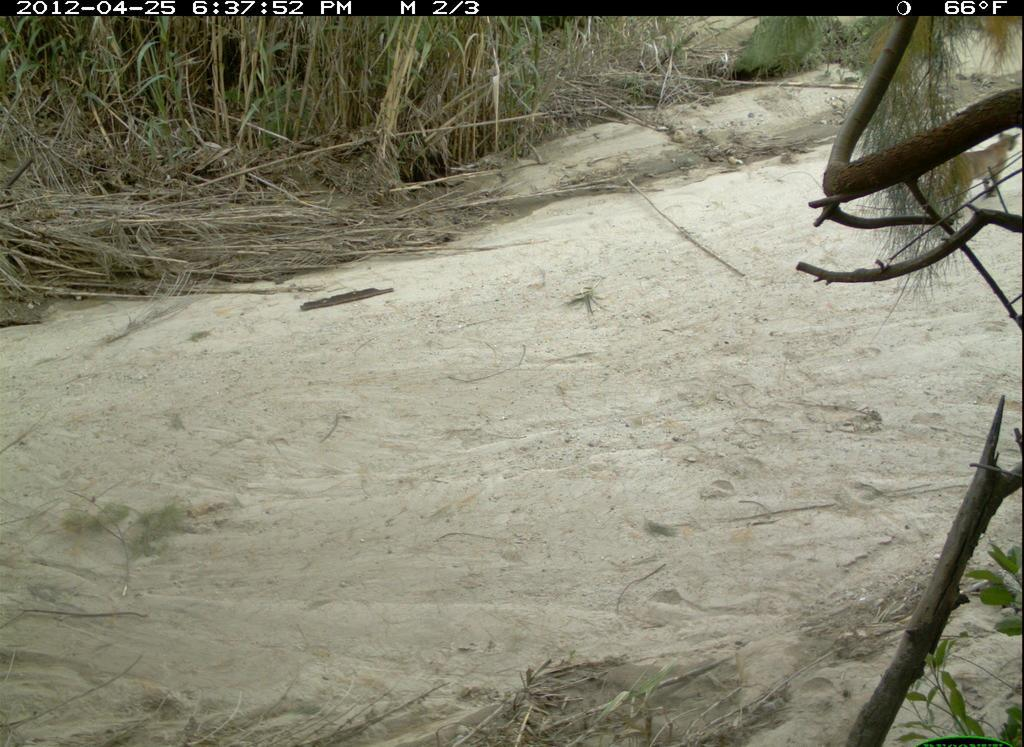bobcat: (929, 118, 1022, 239)
